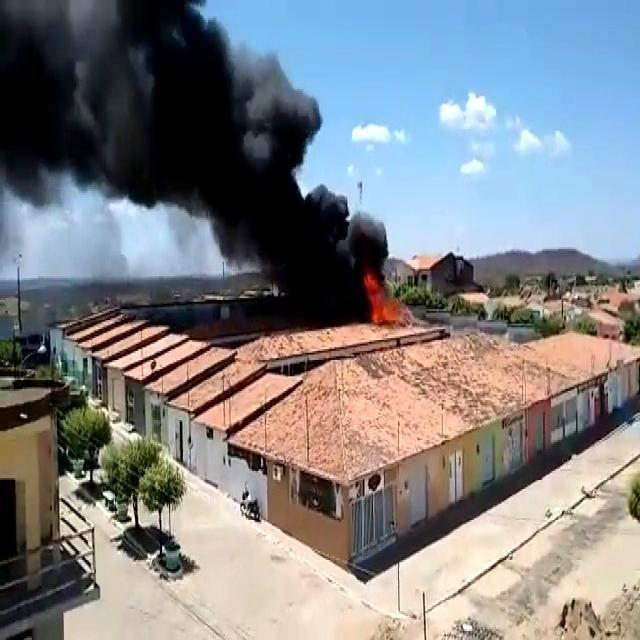Fire: (370, 287, 413, 328)
Smoke: (0, 0, 405, 327)
